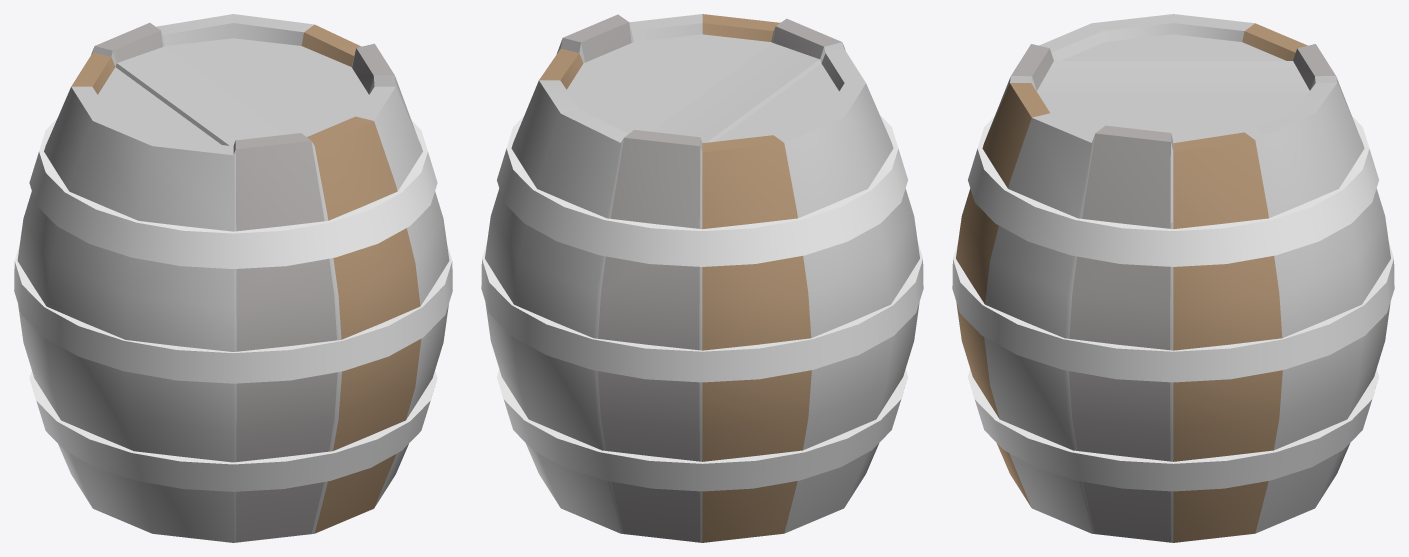
Rendered from barrel.glb.
3 renders of one model, left to right at view 1: azimuth 30°, elevation 25°; view 2: azimuth 150°, elevation 25°; view 3: azimuth 270°, elevation 25°, orthographic.
Visible parts, largest first — view 1: Barrel; view 2: Barrel; view 3: Barrel.
Boxes of the visible parts, bbox=[...] form: Barrel: bbox=[14, 14, 452, 542]; Barrel: bbox=[481, 14, 923, 542]; Barrel: bbox=[952, 14, 1394, 542].
Bounding box in the file's own units: 1 × 1 × 1.
